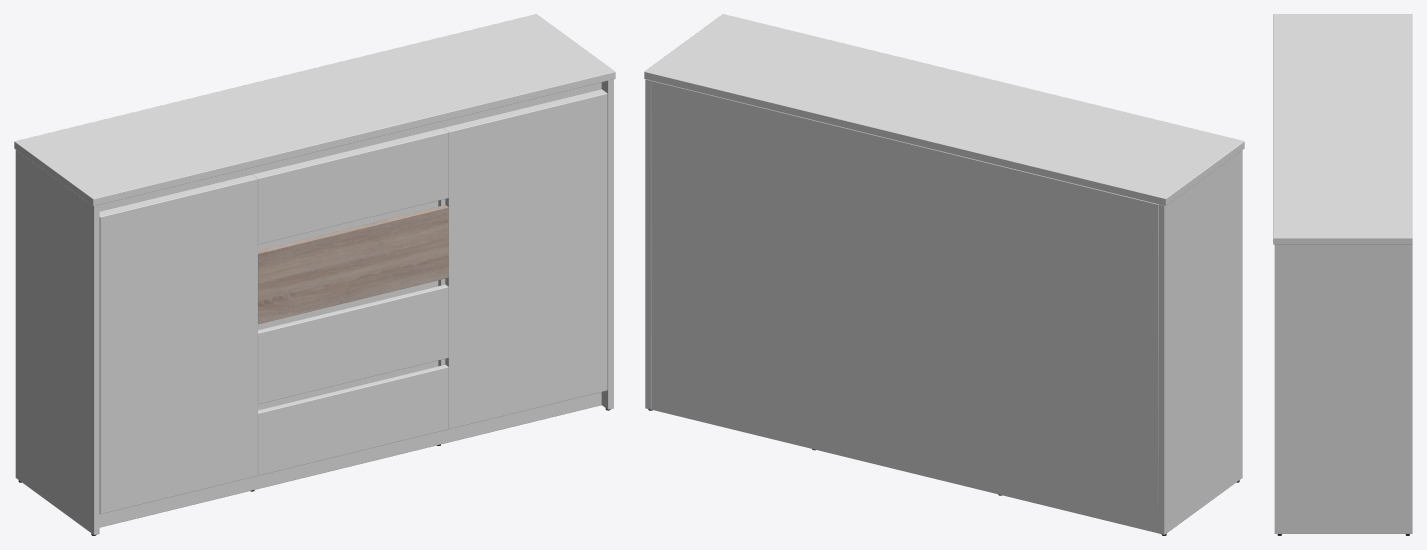
File: cabinet_B0154WJZH2.glb
3 renders of one model, left to right at view 1: azimuth 30°, elevation 25°; view 2: azimuth 150°, elevation 25°; view 3: azimuth 270°, elevation 25°, orthographic. The views are drawn at different scales.
Visible parts, largest first — view 1: B0154WJZH2; view 2: B0154WJZH2; view 3: B0154WJZH2.
Part boxes in pixels (x1=…): B0154WJZH2: x1=14, y1=14, x2=615, y2=535; B0154WJZH2: x1=644, y1=14, x2=1244, y2=535; B0154WJZH2: x1=1273, y1=14, x2=1412, y2=535.
Size of the model in its own units: 1.45 by 0.8999 by 0.38.
Materials: 1 (1 with a texture image).
